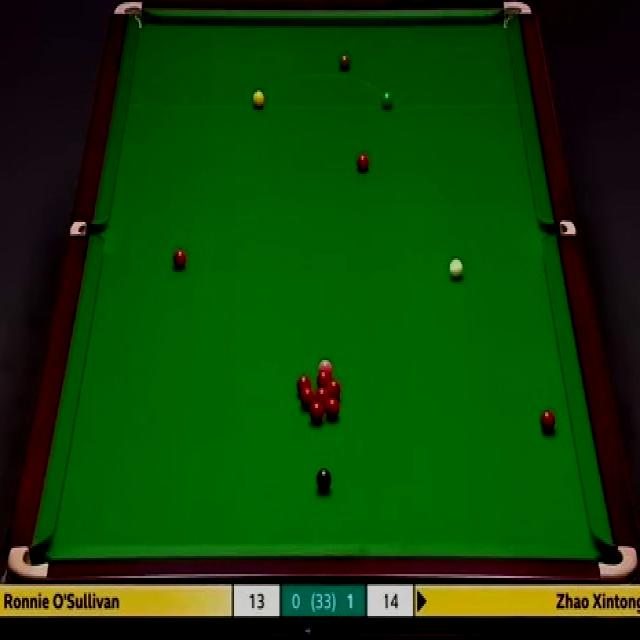pocket: (598, 540, 635, 580), (12, 538, 49, 576), (502, 3, 532, 27), (121, 0, 143, 25), (542, 221, 568, 240), (71, 223, 98, 240)
